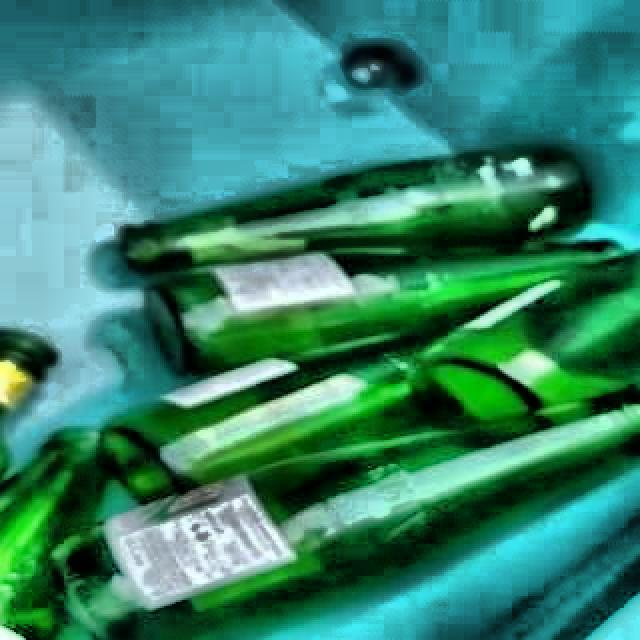glass: (0, 146, 640, 640)
